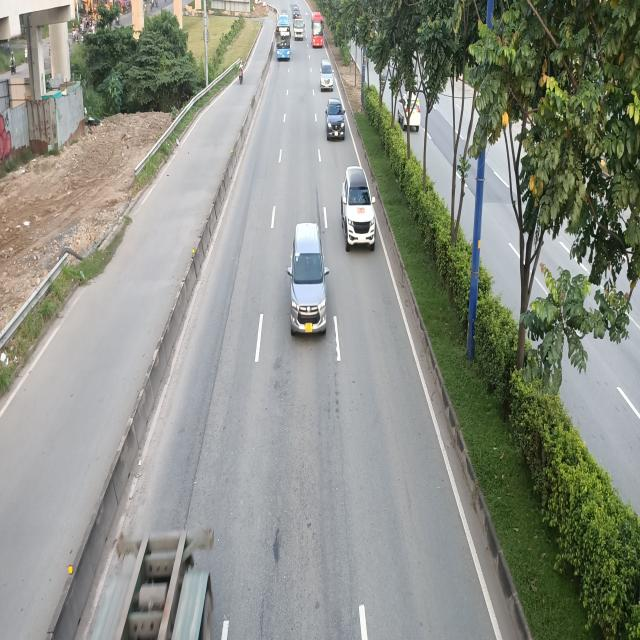car: (286, 224, 328, 338), (341, 167, 377, 252), (327, 96, 348, 140), (319, 60, 335, 91)
coach: (276, 15, 292, 60), (312, 12, 324, 48)
